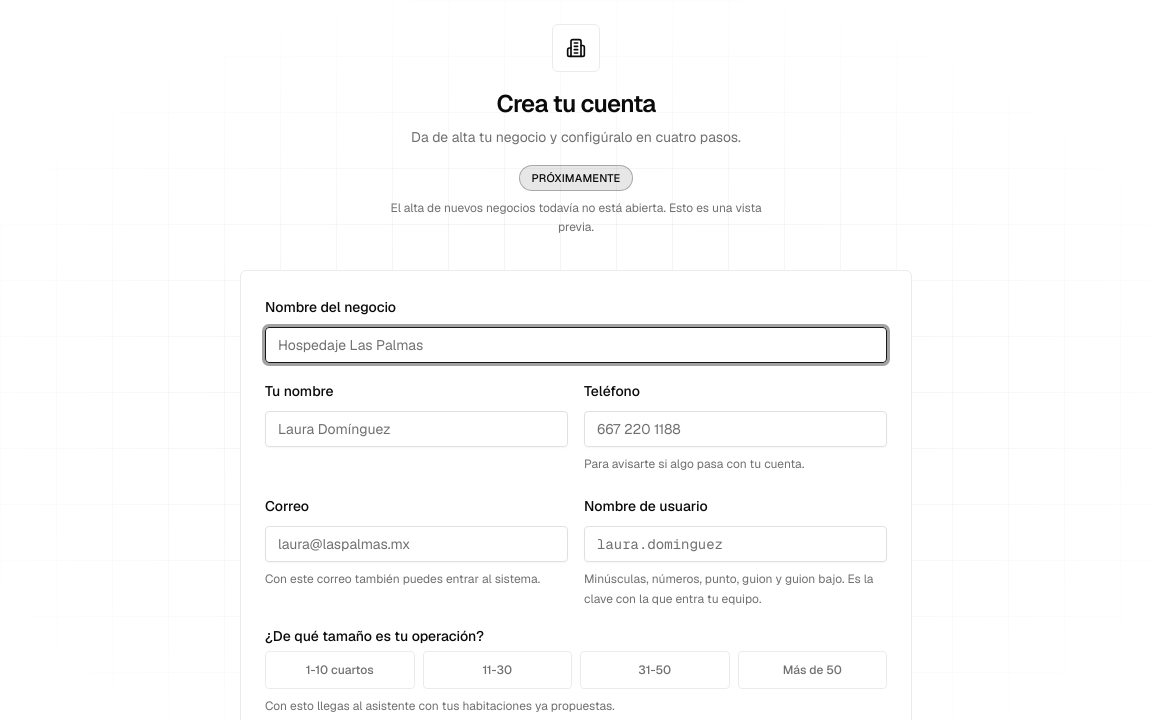
Test: formulario de registro › sugiere dominios mientras el correo esté a medias
Expected: the button "@gmail.com" is not shown
Step 1. Type "efrainleyva240" into the field labelled "Correo" → (416, 544), box [265,526,568,562]
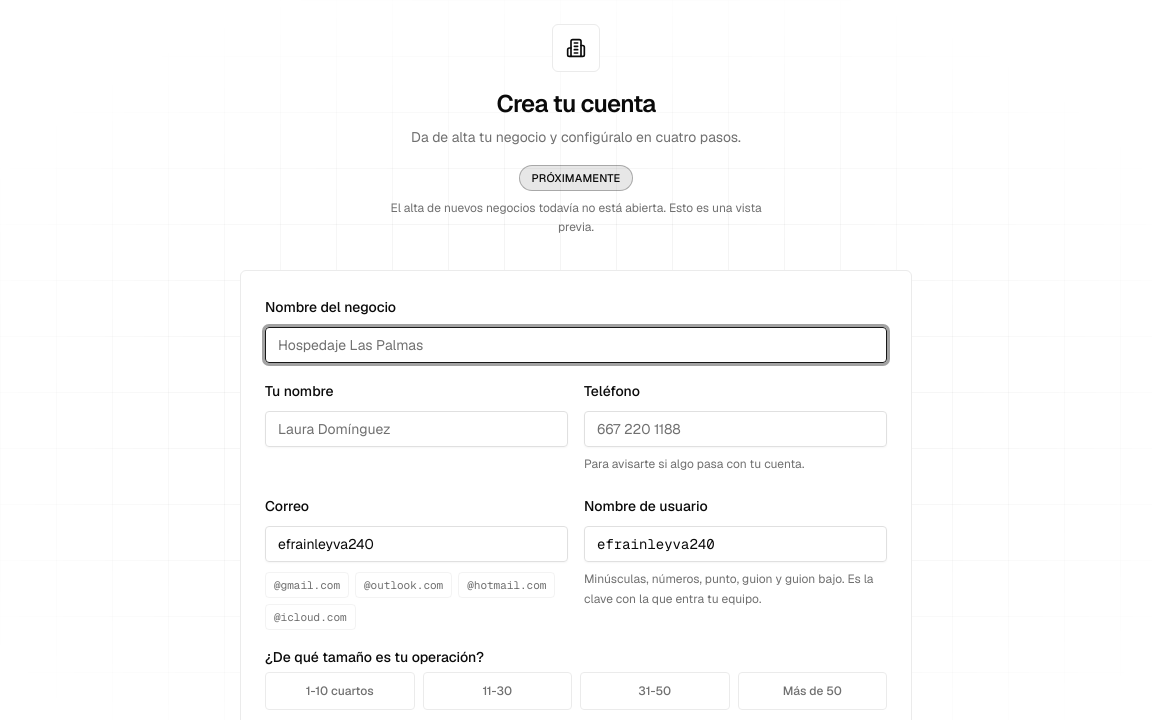
Expected: the button with aria-label "Completar como efrainleyva240@gmail.com" is shown, [265,572,349,598]
